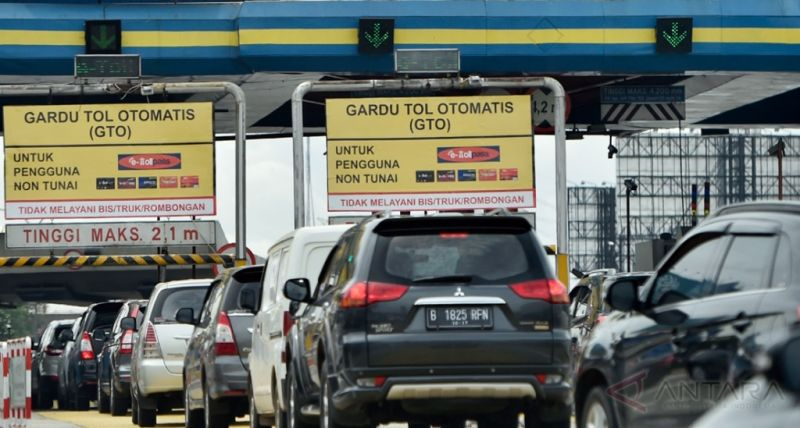plate: (428, 305, 492, 329)
